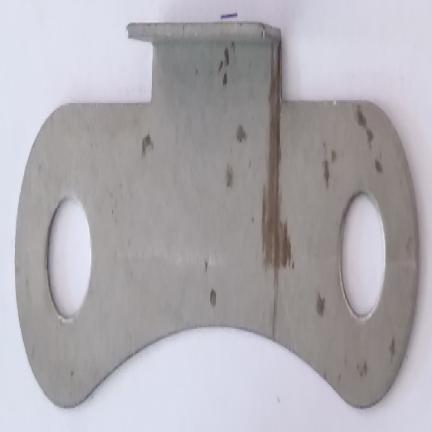besi_tidak_karat: (15, 23, 419, 407)
